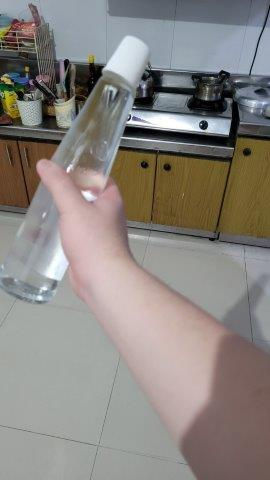botolkaca: (1, 32, 149, 308)
